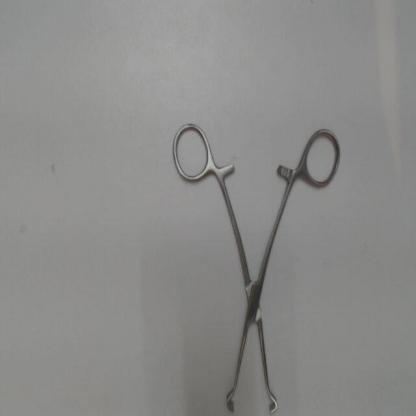Babcock Tissue Forceps: (164, 121, 344, 414)
